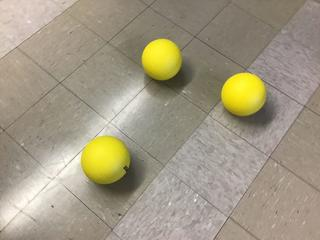power_cell: (77, 133, 134, 190), (219, 70, 268, 117), (140, 38, 187, 83)
